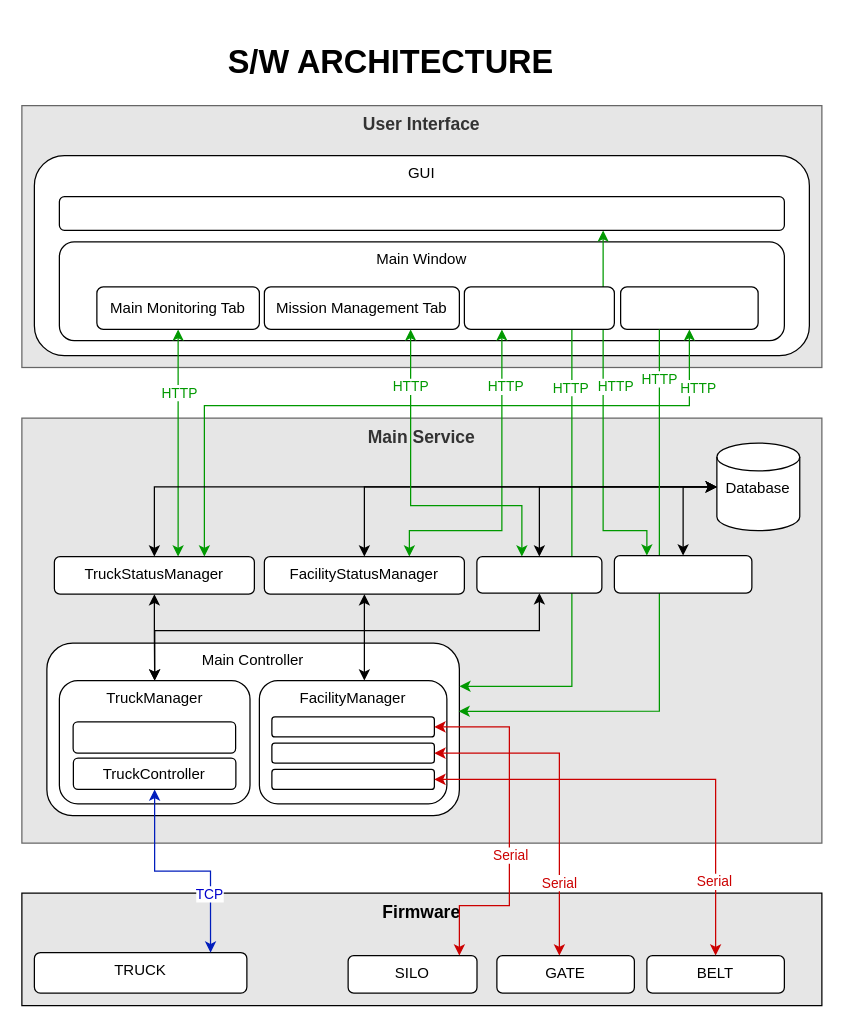
Image size: 844x1028. Some labels were removed from this diagram. The shapes that lost their labels are listed below. From the top down, each one's centre as x and y in pixels, then its label:
the point at 421,212: Login Window
the point at 538,307: Facility Control Tab
the point at 688,307: Truck Control Tab
the point at 539,574: MissionManager
the point at 682,573: AuthManager
the point at 154,737: TruckFSM
the point at 352,726: SiloController
the point at 352,752: GateController
the point at 352,778: BeltController
